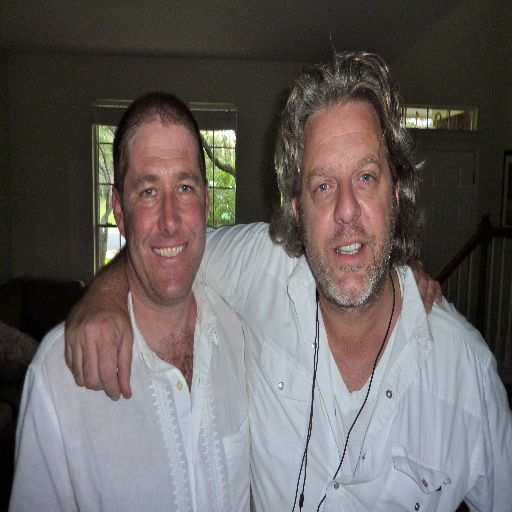hand: (60, 298, 142, 404), (409, 253, 442, 317)
